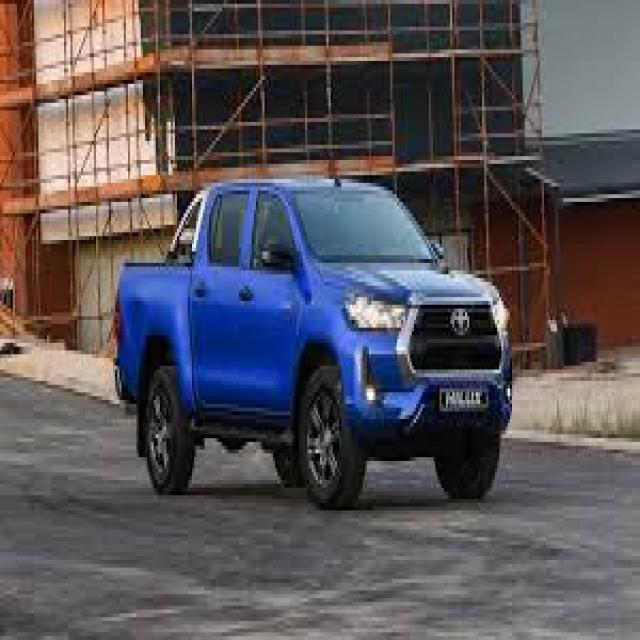Pickup Trucks: (109, 176, 514, 514)
